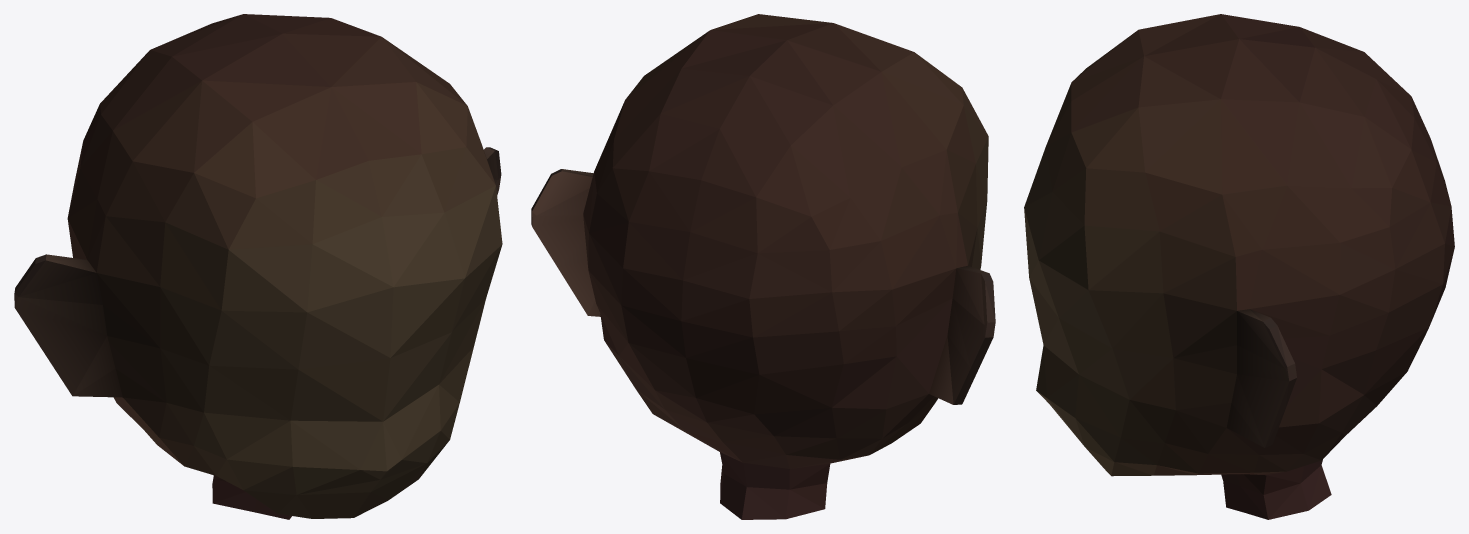
File: helm_darkskin_bald.fbx
3 views of the same model, side by side, from view 1: azimuth 30°, elevation 25°; view 2: azimuth 150°, elevation 25°; view 3: azimuth 270°, elevation 25° (orthographic). The views are drawn at different scales.
Parts seen in each view (by area): view 1: helm_darkskin_bald; view 2: helm_darkskin_bald; view 3: helm_darkskin_bald.
Part boxes in pixels (x1,y1,x2,y2): helm_darkskin_bald: [14, 14, 502, 519]; helm_darkskin_bald: [531, 14, 995, 519]; helm_darkskin_bald: [1024, 14, 1454, 519].
Bounding box in the file's own units: 1.12 × 1.06 × 0.8843.
